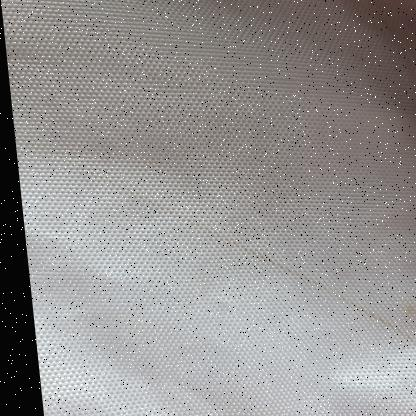spot: (68, 160, 416, 382)
